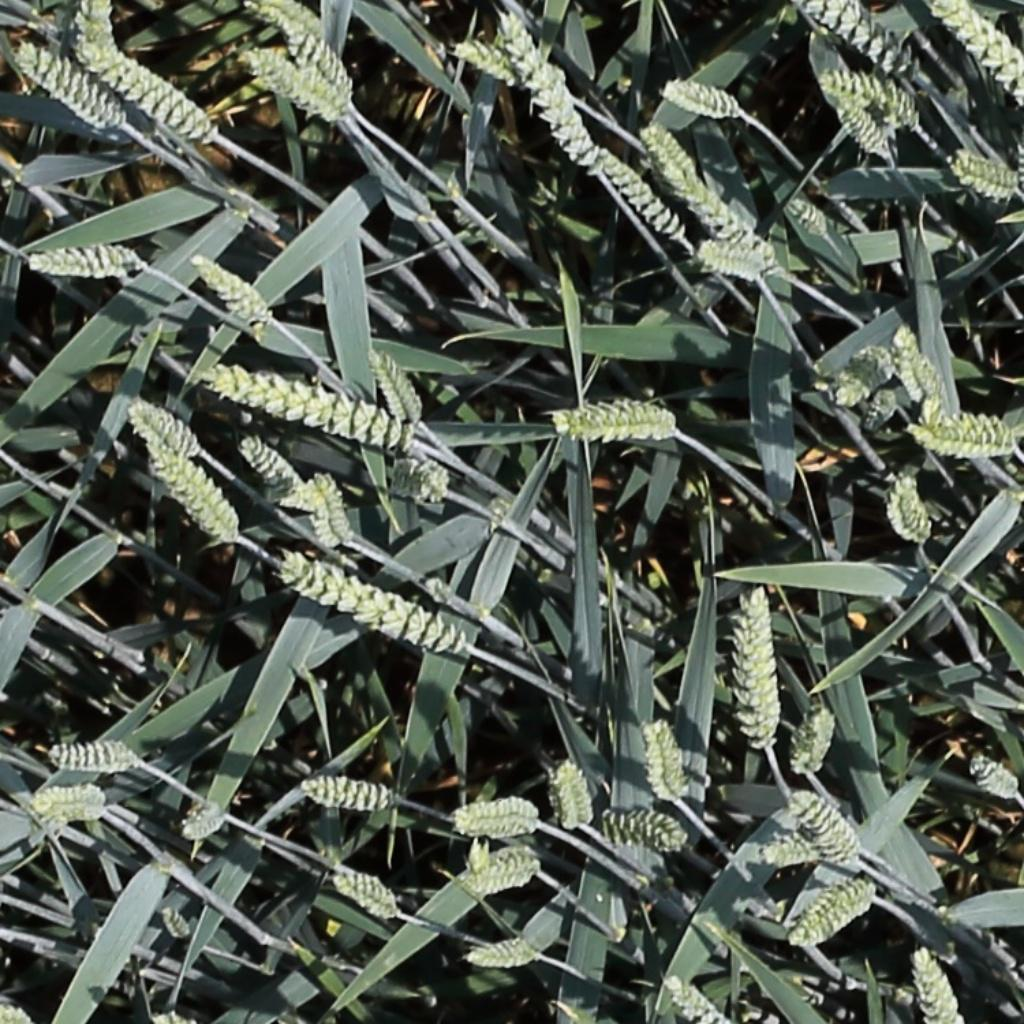0-0: (499, 15, 604, 178), (278, 558, 458, 645), (211, 370, 404, 441), (651, 151, 780, 256), (81, 42, 212, 137), (140, 428, 238, 546), (239, 42, 369, 124), (726, 572, 784, 748), (811, 0, 922, 84), (16, 42, 120, 126), (598, 150, 689, 238), (66, 0, 138, 99), (446, 789, 542, 863), (821, 70, 934, 127), (283, 27, 362, 107), (557, 397, 683, 446), (936, 1, 1021, 73), (284, 755, 394, 809), (876, 455, 936, 550), (191, 252, 271, 323), (793, 791, 865, 864), (826, 81, 894, 158), (905, 405, 1011, 454), (794, 882, 876, 944), (43, 726, 136, 780), (368, 344, 425, 428), (894, 318, 946, 410), (16, 778, 112, 826), (602, 803, 688, 853), (238, 434, 305, 496), (309, 468, 359, 551), (912, 942, 962, 1024), (791, 708, 844, 783), (836, 346, 901, 405), (131, 401, 200, 456), (643, 118, 703, 181), (380, 455, 459, 502), (647, 718, 686, 809), (454, 40, 528, 86), (333, 873, 401, 920), (468, 923, 543, 965), (660, 81, 746, 116), (557, 759, 596, 836), (663, 973, 723, 1022), (966, 750, 1021, 801), (951, 152, 1018, 191), (257, 0, 324, 39), (786, 192, 835, 240), (861, 382, 902, 438), (697, 244, 771, 273), (465, 865, 540, 891), (157, 901, 196, 946), (28, 255, 132, 270), (744, 847, 827, 865), (180, 808, 226, 839), (0, 1008, 30, 1024)
